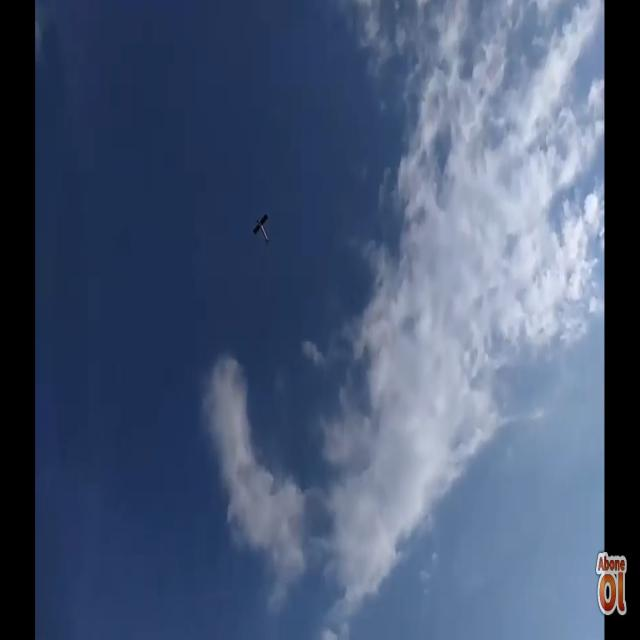iha: (253, 212, 270, 246)
